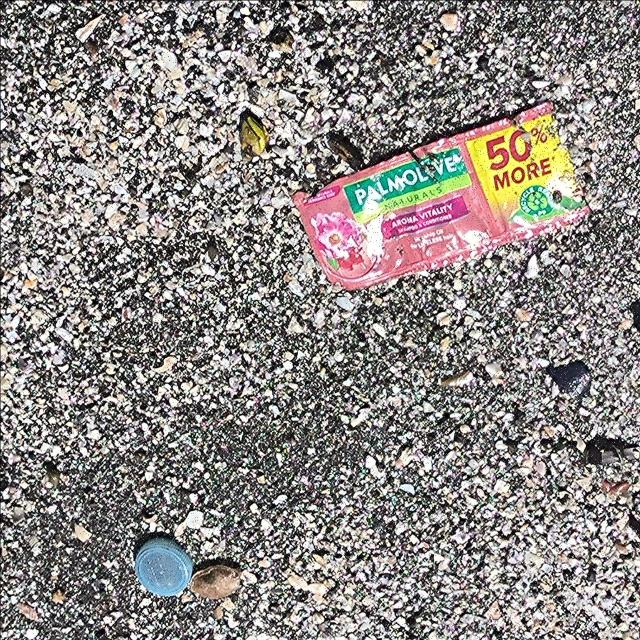plastic_waste: (292, 101, 595, 294), (135, 537, 195, 597)
